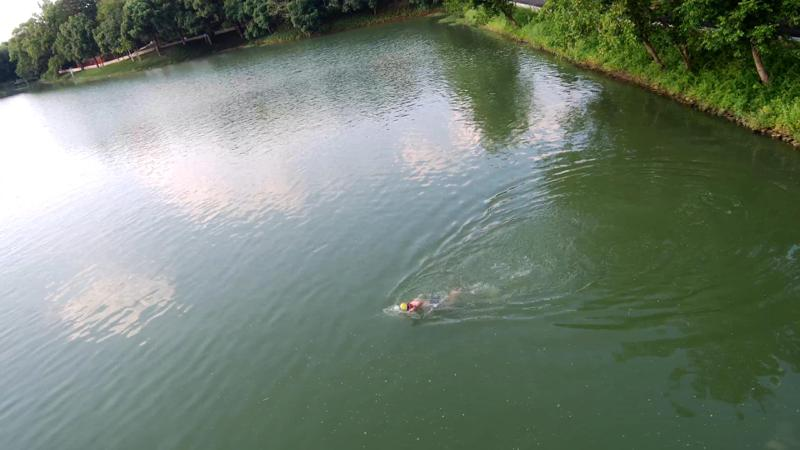swimmers: (399, 287, 461, 320)
